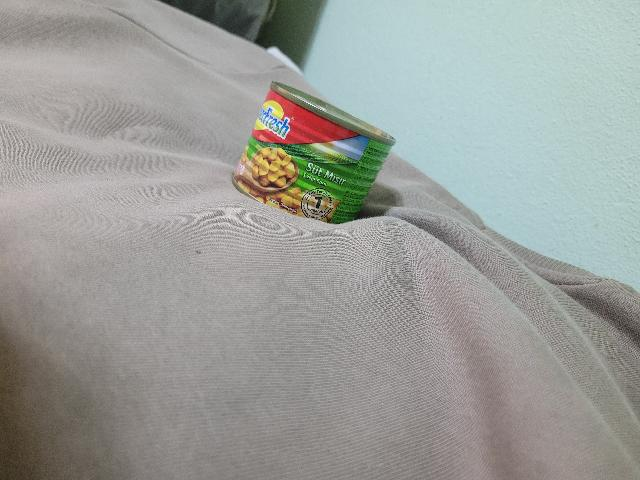Metal: (227, 80, 397, 225)
